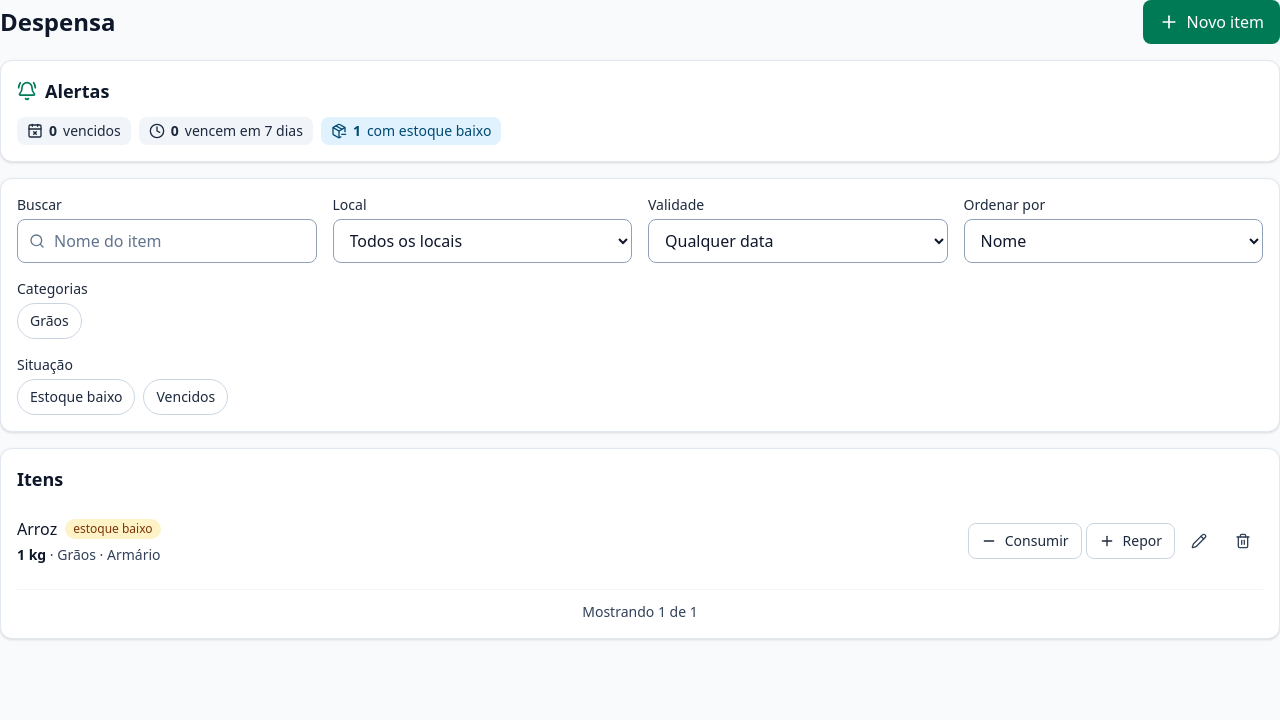
PantryPage › on 'Consumir' with 409 shows the toast and keeps the quantity
The width and height of the screenshot is (1280, 720).
Expected: the text "1 kg" is shown, [17,545,46,564]
Expected: the text "estoque baixo" is shown, [65,519,161,539]
Step 1. Click the button with aria-label "Consumir Arroz" → (1025, 541), box [968,523,1082,559]
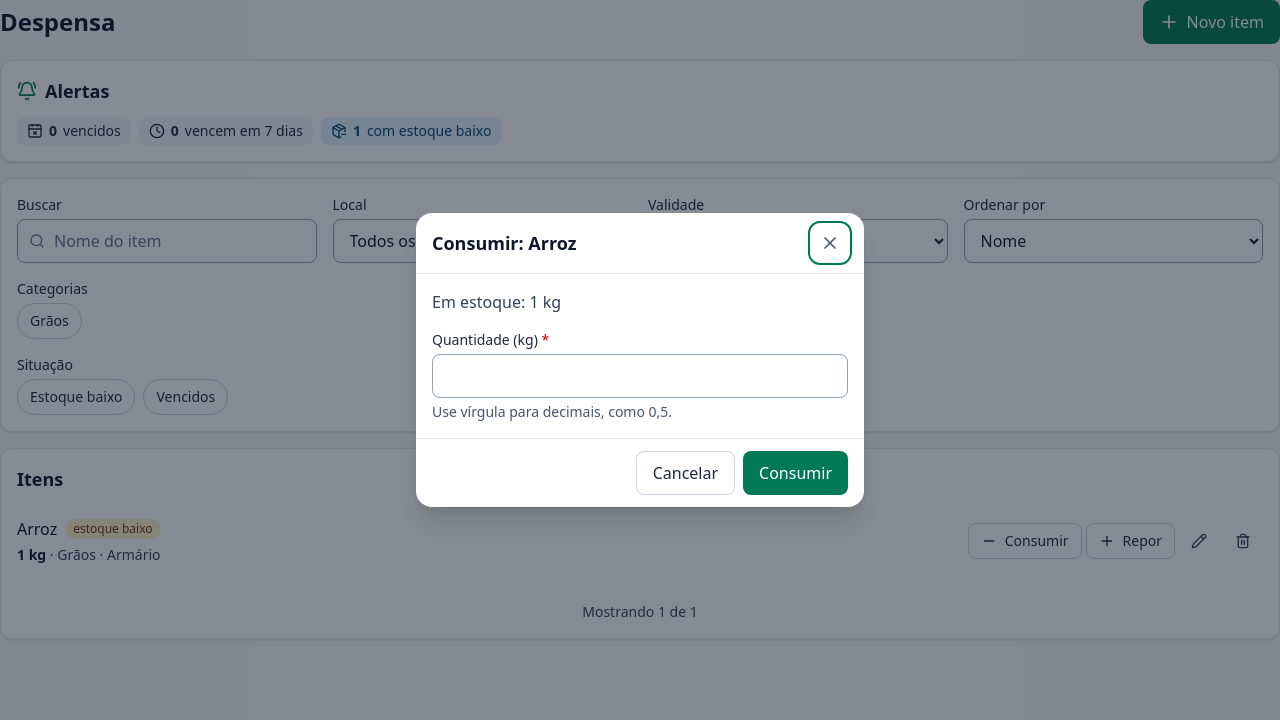
Step 2. Type "1,5" into the field labelled "Quantidade (kg) *" → (640, 376), box [432,354,848,398]
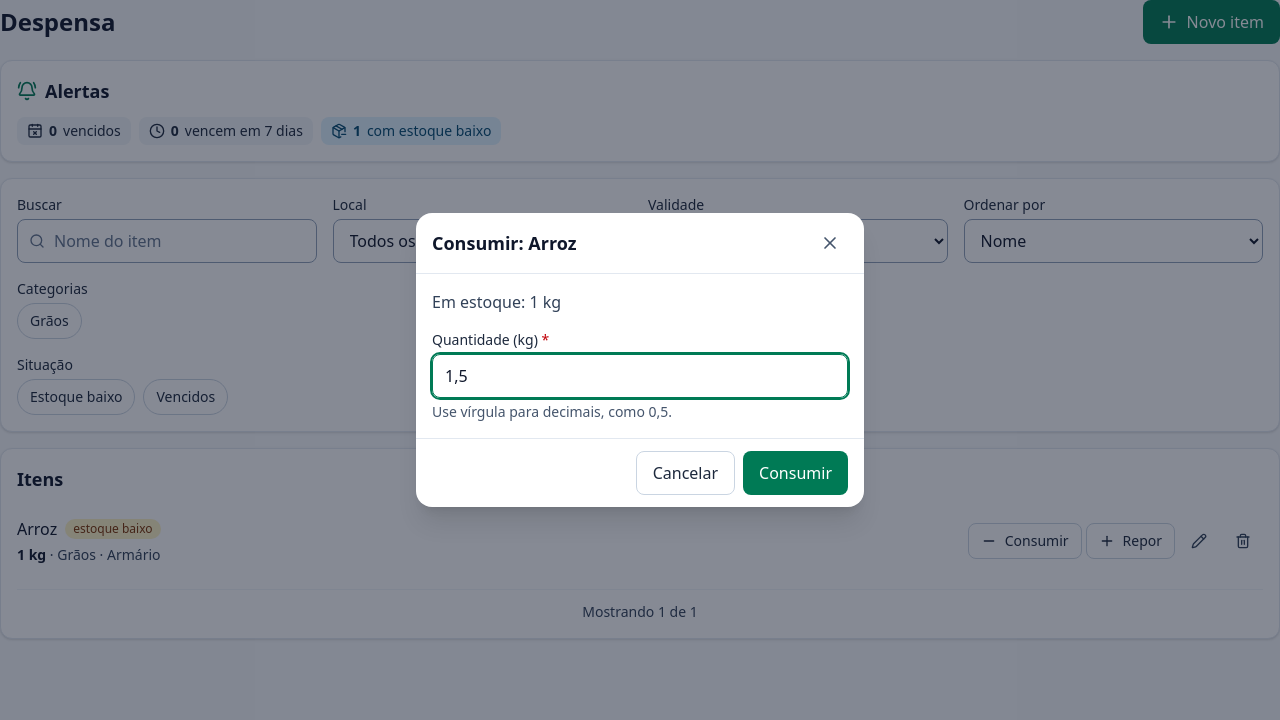
Step 3. Click the button "Consumir" → (796, 473), box [743,451,848,495]
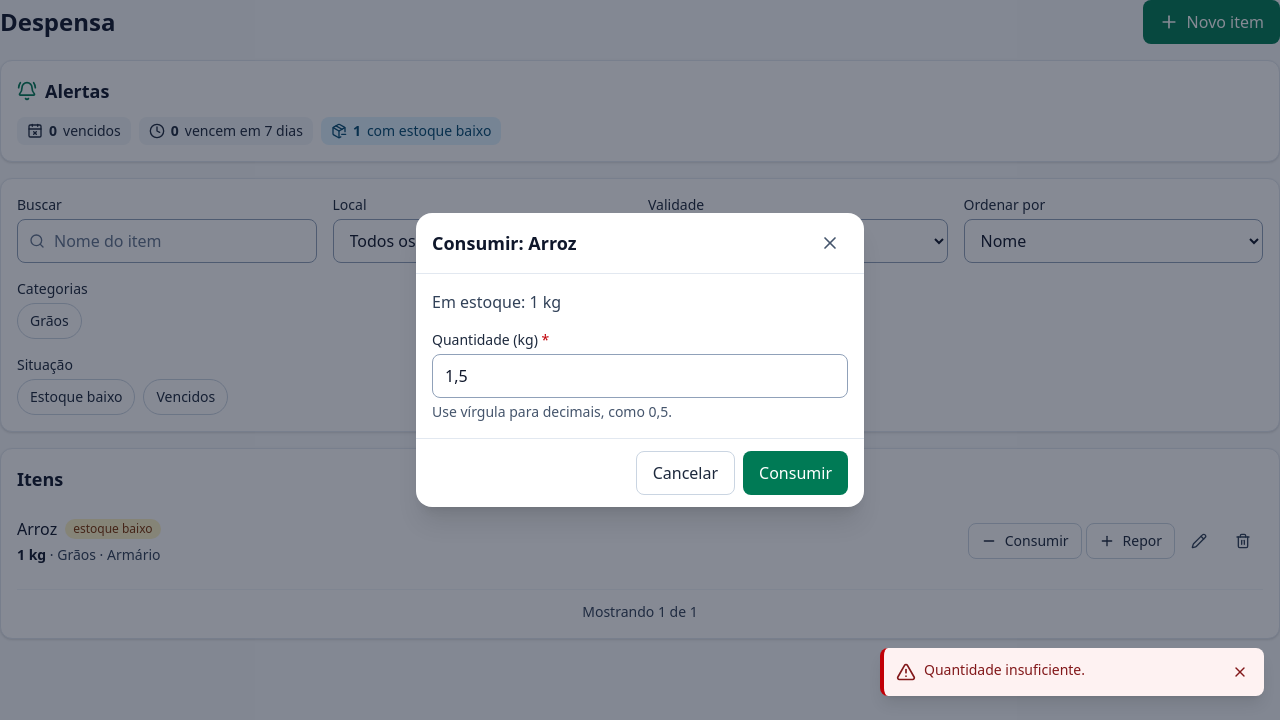
Expected: the text "1 kg" is shown, [17,545,46,564]
Expected: the text "Quantidade insuficiente." is shown, [924,660,1085,679]
